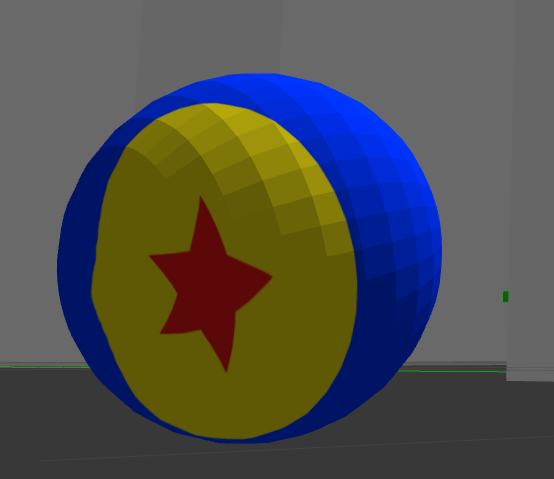toy story ball: (60, 74, 443, 442)
